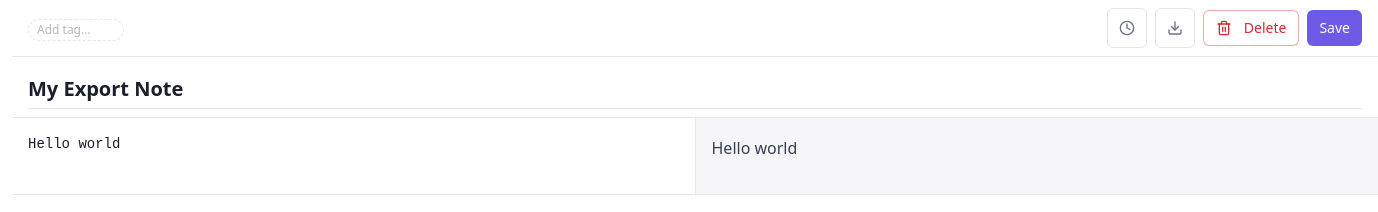
Test case: NoteEditor — export dropdown › opens dropdown with both export options
Expected: the field showing "My Export Note" is shown, [28,69,1362,109]
Click the button named "export note": (1175, 28) [1155,8,1195,48]
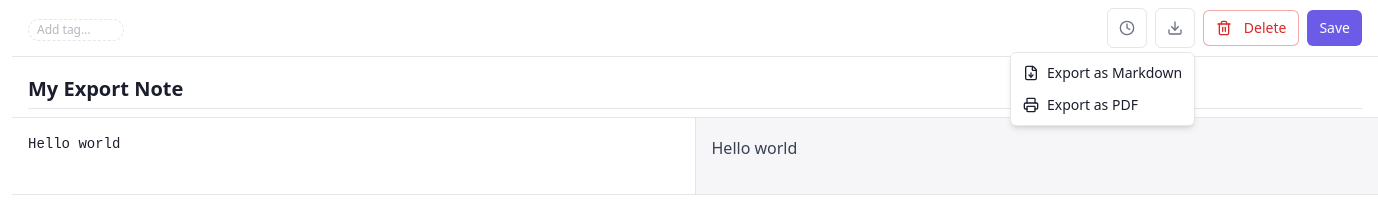
Expected: the menu item "Export as Markdown" is shown, [1023,63,1182,82]
Expected: the menu item "Export as PDF" is shown, [1023,95,1138,114]
